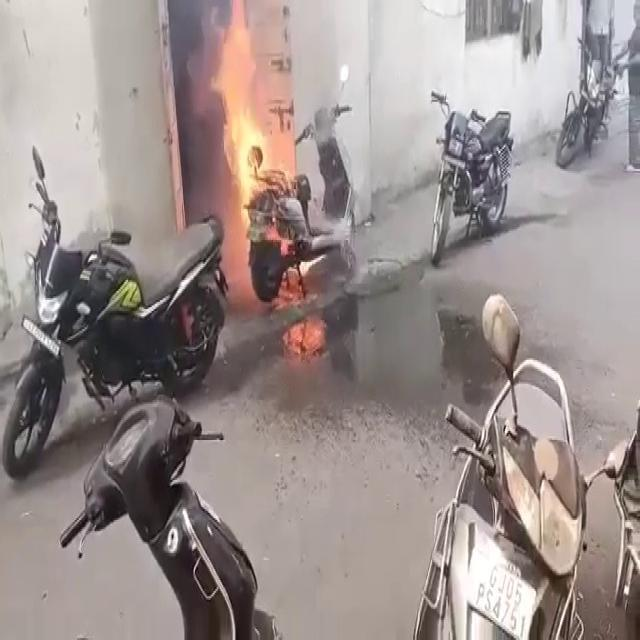Fire: (209, 1, 286, 290)
